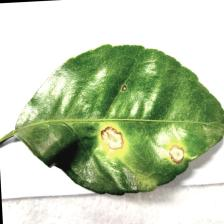canker: (92, 80, 191, 182)
